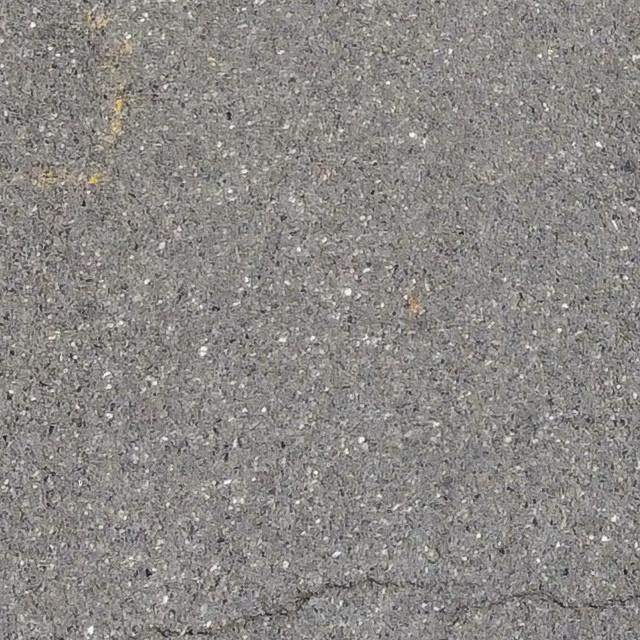TransverseCrack: (151, 575, 471, 636), (443, 589, 640, 628)
